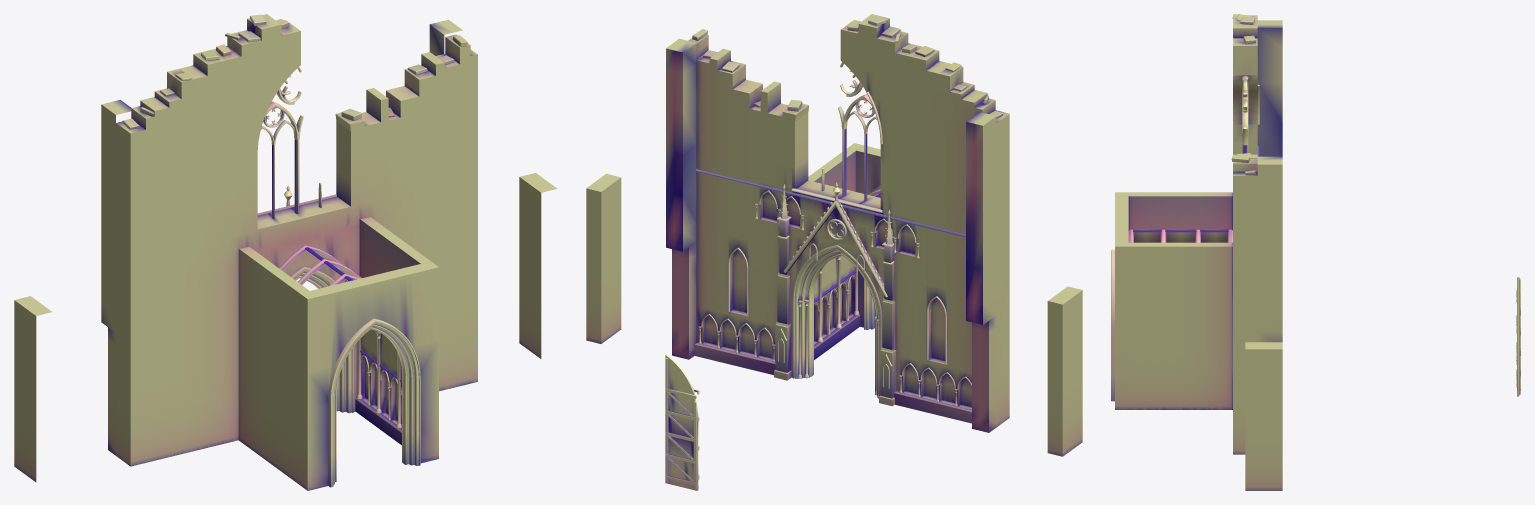
Rendered from west.glb.
The picture shows the model from 3 angles, left to right: view 1: azimuth 30°, elevation 25°; view 2: azimuth 150°, elevation 25°; view 3: azimuth 270°, elevation 25°; orthographic projection. The views are drawn at different scales.
Parts seen in each view (by area): view 1: west_wall, west_porch; view 2: west_wall, west_porch, door_leaf; view 3: west_porch, west_wall, door_leaf.
Part boxes in pixels (left/top/right/bottom): west_wall: left=14, top=14, right=557, bottom=482; west_porch: left=238, top=216, right=438, bottom=490; west_wall: left=586, top=14, right=1082, bottom=456; west_porch: left=806, top=143, right=880, bottom=359; door_leaf: left=665, top=354, right=699, bottom=490; west_porch: left=1111, top=192, right=1232, bottom=409; west_wall: left=1231, top=14, right=1282, bottom=490; door_leaf: left=1516, top=277, right=1520, bottom=396.
Size of the model in its own units: 41.3 by 30.97 by 33.01.
